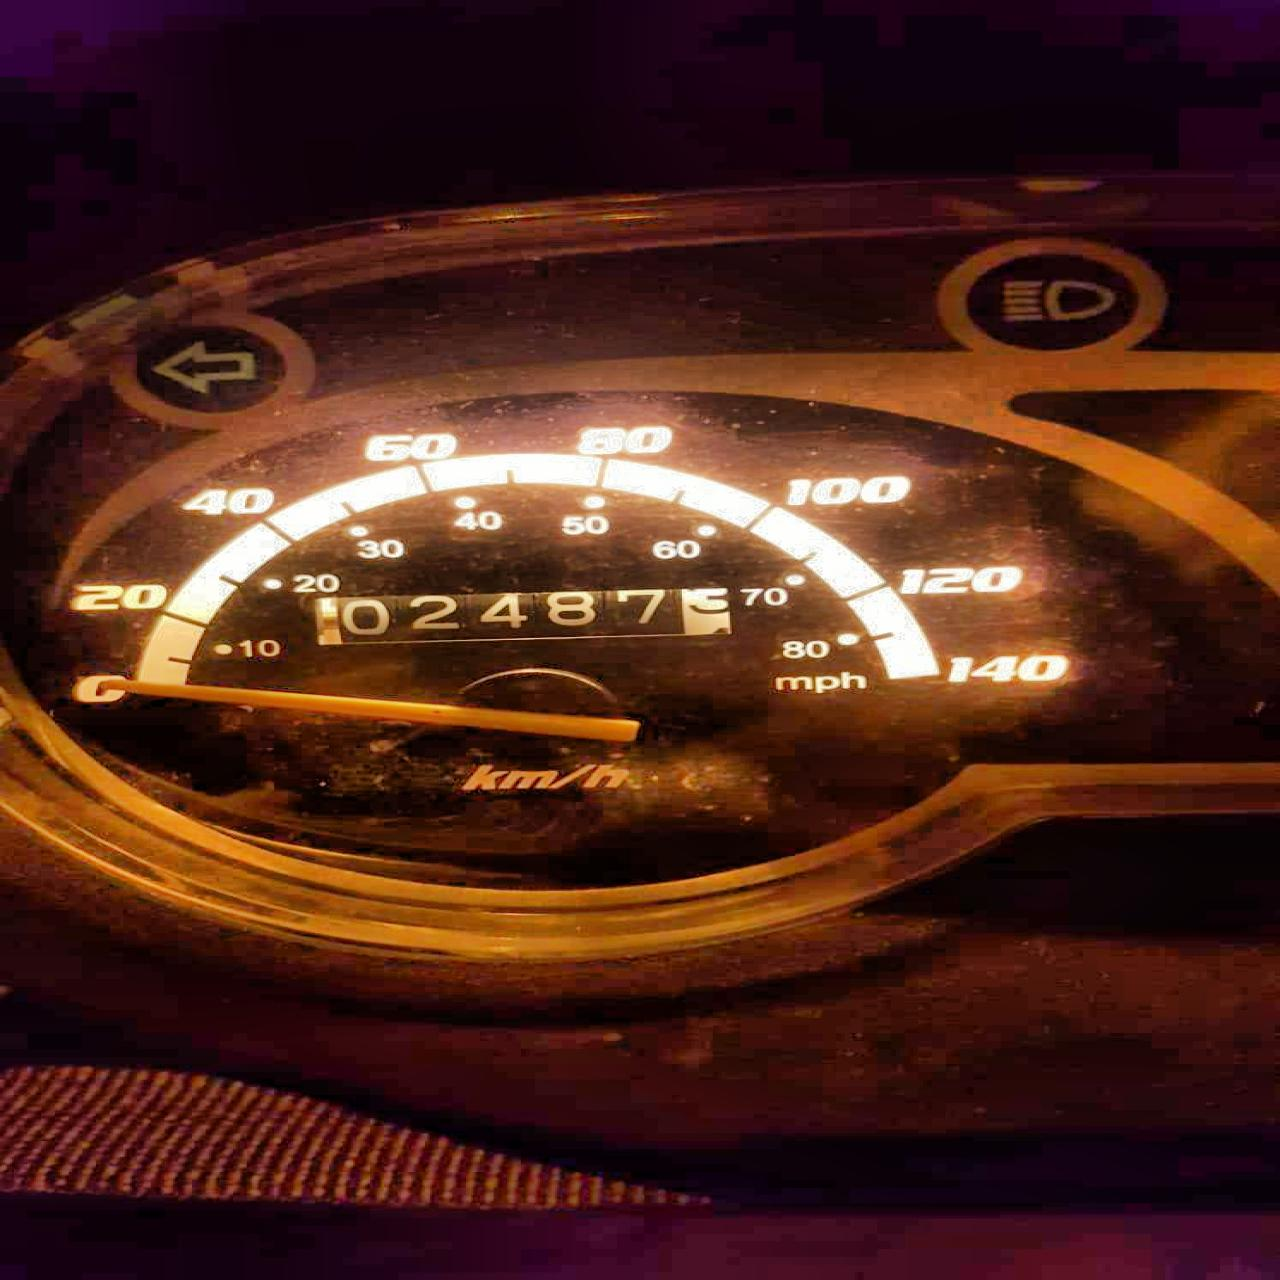0: (339, 594, 390, 638), (319, 572, 339, 592)
2: (407, 591, 458, 632), (292, 572, 315, 592)
3: (683, 583, 731, 615)
4: (477, 590, 530, 628)
7: (615, 586, 667, 627), (742, 584, 762, 606)
8: (543, 587, 600, 627)
odometer: (298, 576, 756, 654)
